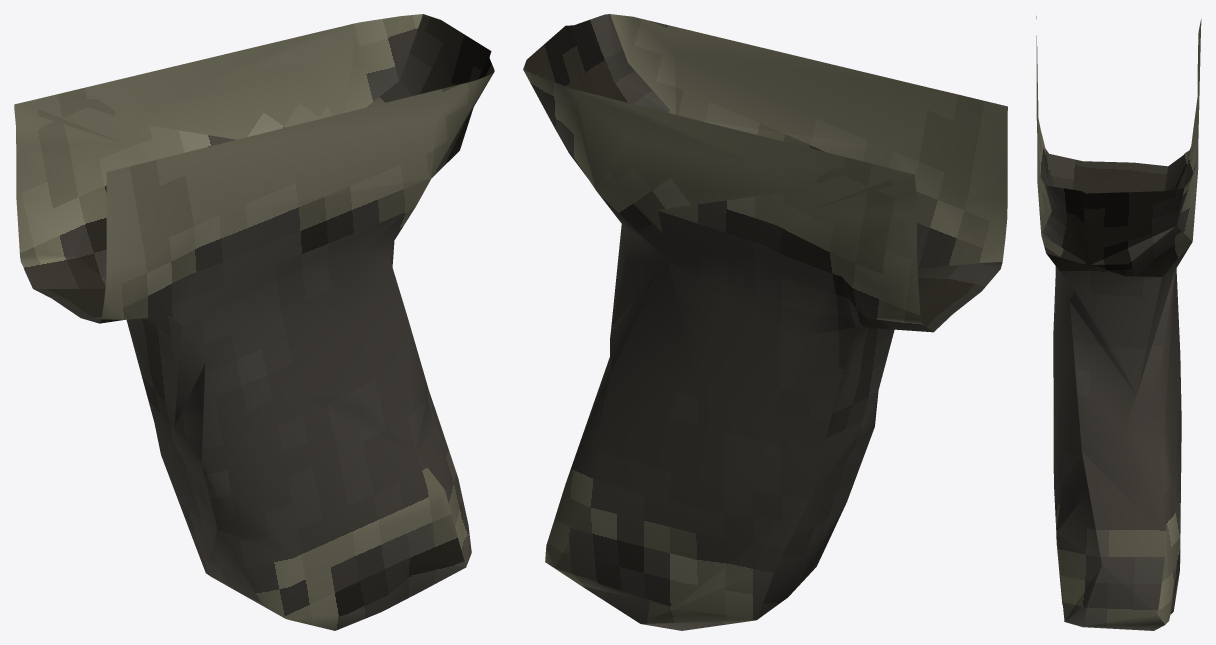
File: cargador.glb
3 renders of one model, left to right at view 1: azimuth 30°, elevation 25°; view 2: azimuth 150°, elevation 25°; view 3: azimuth 270°, elevation 25°, orthographic. The views are drawn at different scales.
Visible parts, largest first — view 1: geometry_0; view 2: geometry_0; view 3: geometry_0.
Boxes of the visible parts, left/top/right/bottom form: geometry_0: left=14, top=14, right=494, bottom=630; geometry_0: left=523, top=14, right=1007, bottom=630; geometry_0: left=1036, top=16, right=1201, bottom=630.
Size of the model in its own units: 0.1736 by 0.2171 by 0.0675.
1 material, 1 textured.
